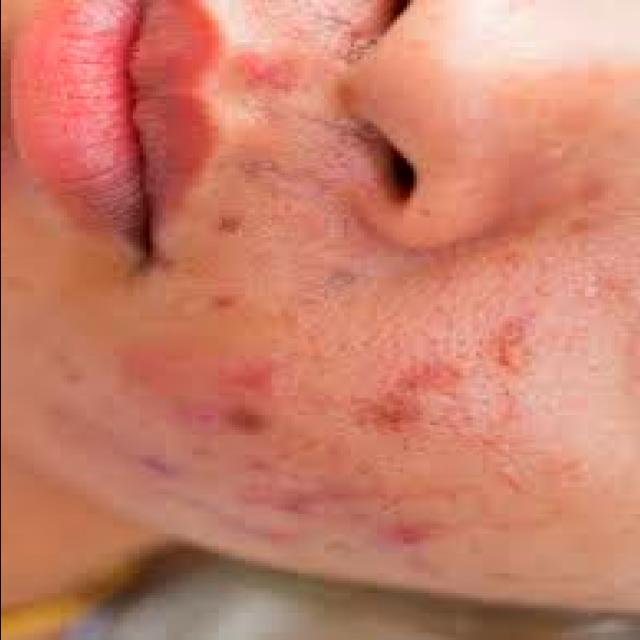Acne: (488, 314, 536, 378), (352, 398, 427, 433), (220, 361, 278, 398), (398, 362, 464, 394), (380, 520, 443, 552), (134, 452, 182, 482), (240, 51, 278, 88), (187, 402, 221, 434)
